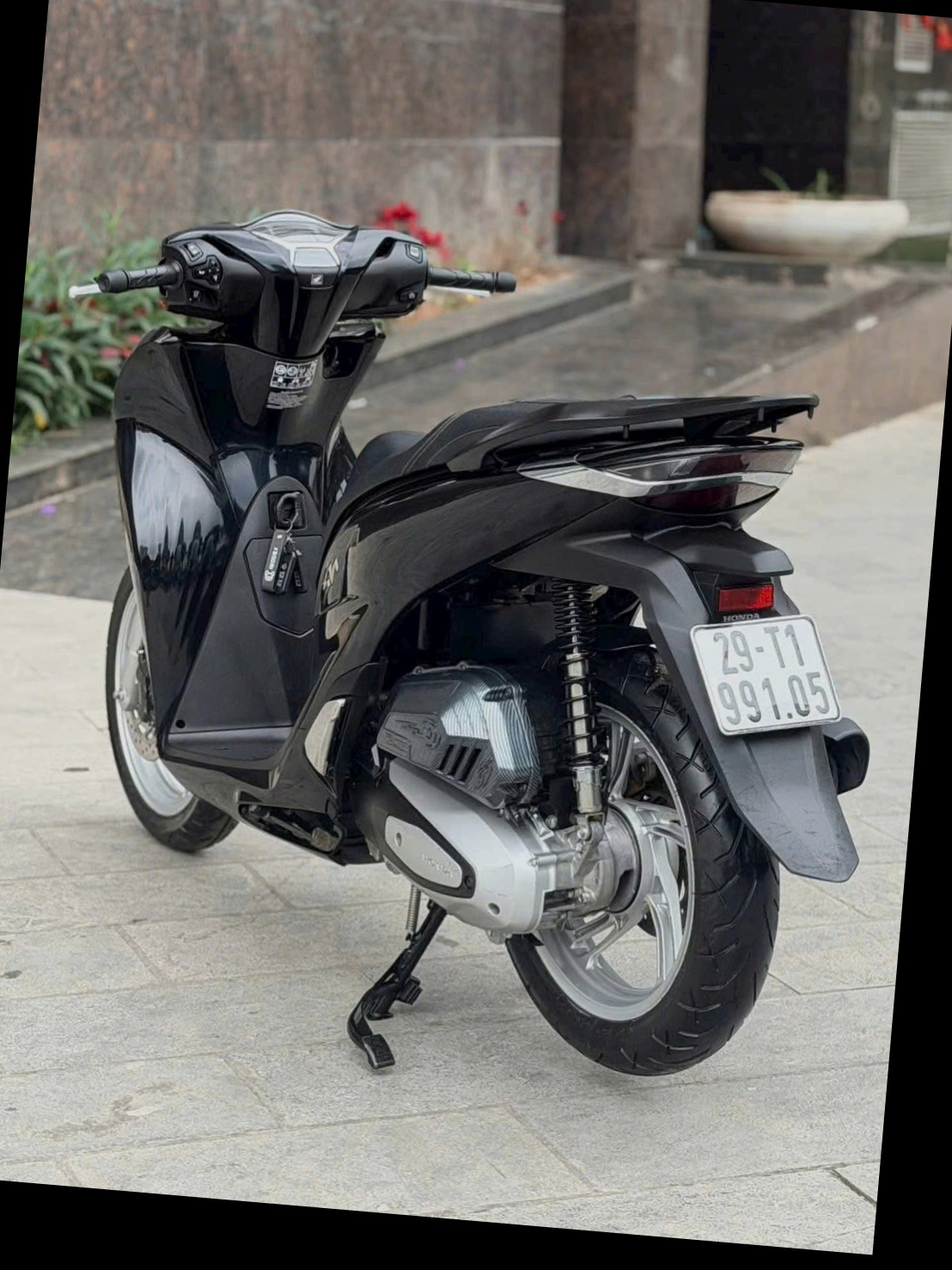Bien-so: (680, 592, 856, 753)
